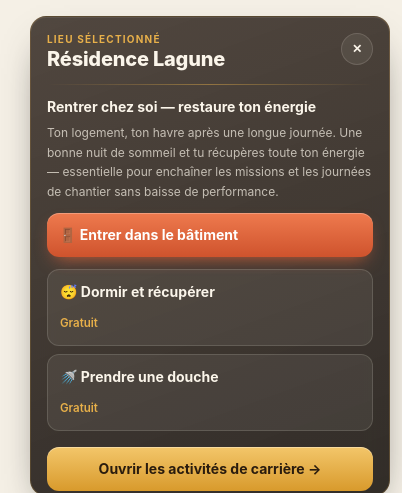
Interactions dans la ville › affiche le coût et actualise la carrière après une action réelle
Step 1. Click the button "😴 Dormir et récupérer Gratuit" → (148, 292), box [47, 269, 373, 346]
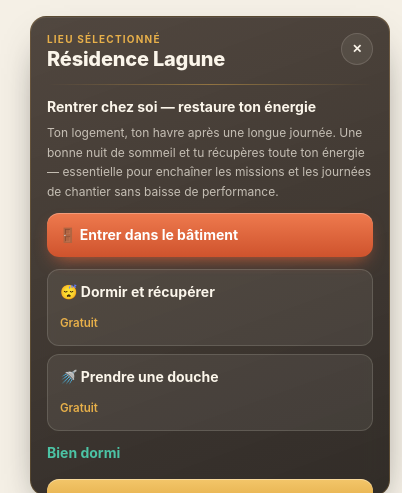
Result: the message reads "Bien dormi" at [47, 444, 120, 461]
